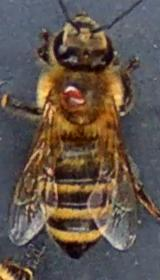varroa_mite: (62, 81, 88, 110)
